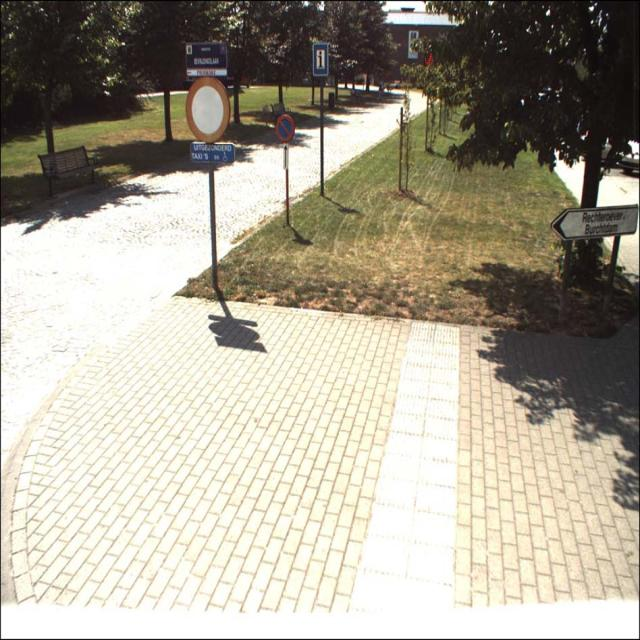parkyasak: (276, 115, 295, 142)
